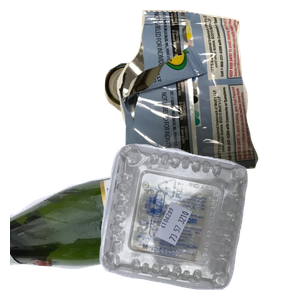glass: (10, 154, 246, 300)
metal: (102, 60, 252, 169)
plastic: (97, 141, 300, 300)
trash: (114, 10, 300, 180)
